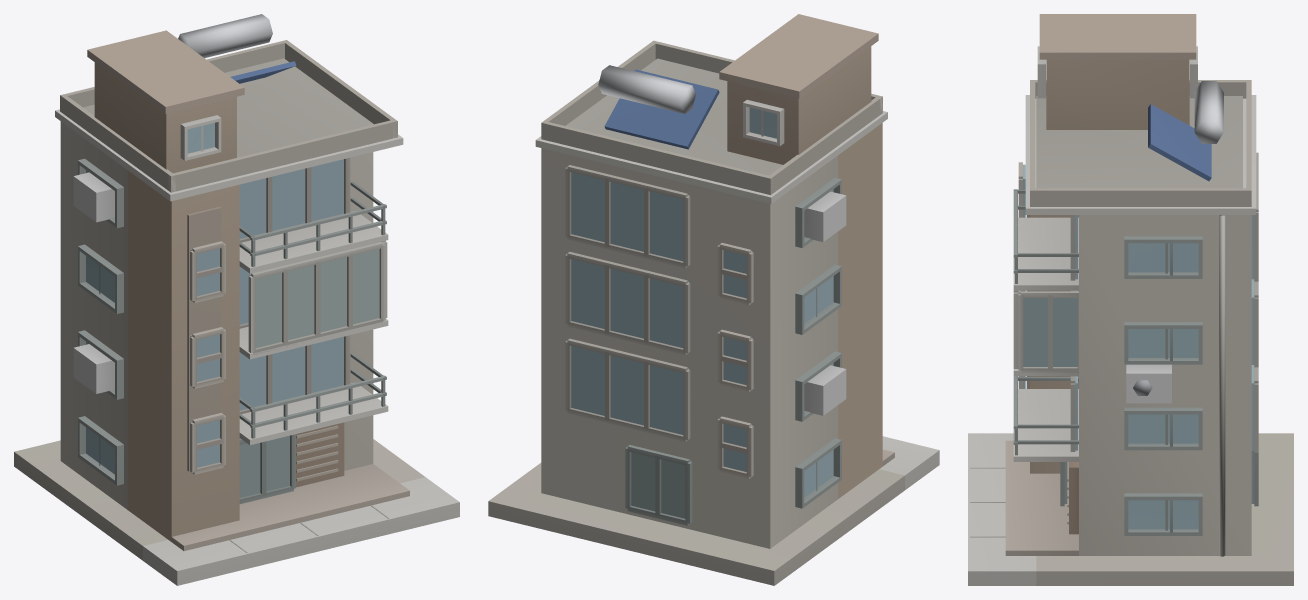
File: house.glb
3 views of the same model, side by side, from view 1: azimuth 30°, elevation 25°; view 2: azimuth 150°, elevation 25°; view 3: azimuth 270°, elevation 25° (orthographic).
Parts seen in each view (by area): view 1: house; view 2: house; view 3: house.
Boxes of the visible parts, x1,y1,x2,y2 form: house: (14,14,459,585); house: (488,14,939,585); house: (968,14,1293,585).
Bounding box in the file's own units: 1 × 1.51 × 1.
